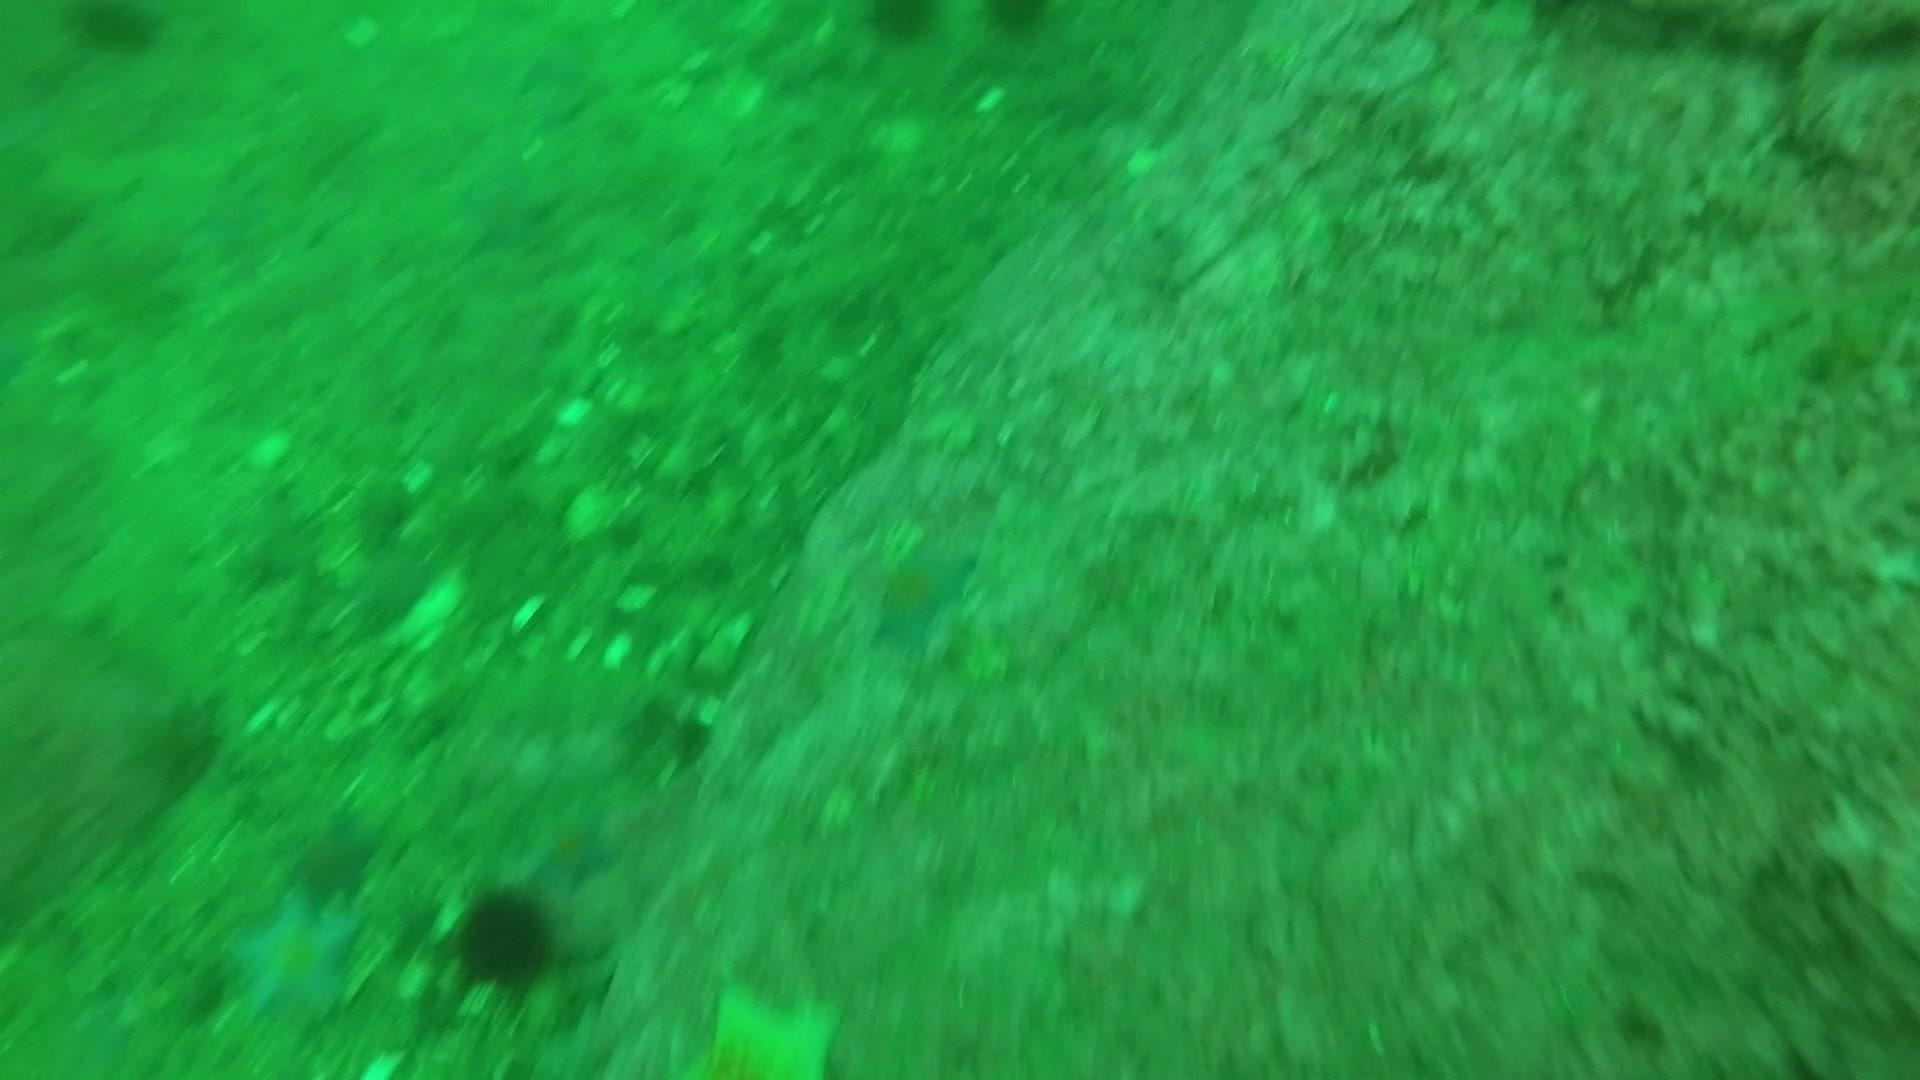echinus: (444, 880, 564, 998), (57, 1, 171, 61), (855, 0, 947, 50), (973, 0, 1062, 45)
starfish: (218, 882, 371, 1027), (676, 973, 849, 1076), (860, 529, 984, 659), (444, 152, 566, 260), (280, 799, 386, 909), (513, 799, 622, 899)
